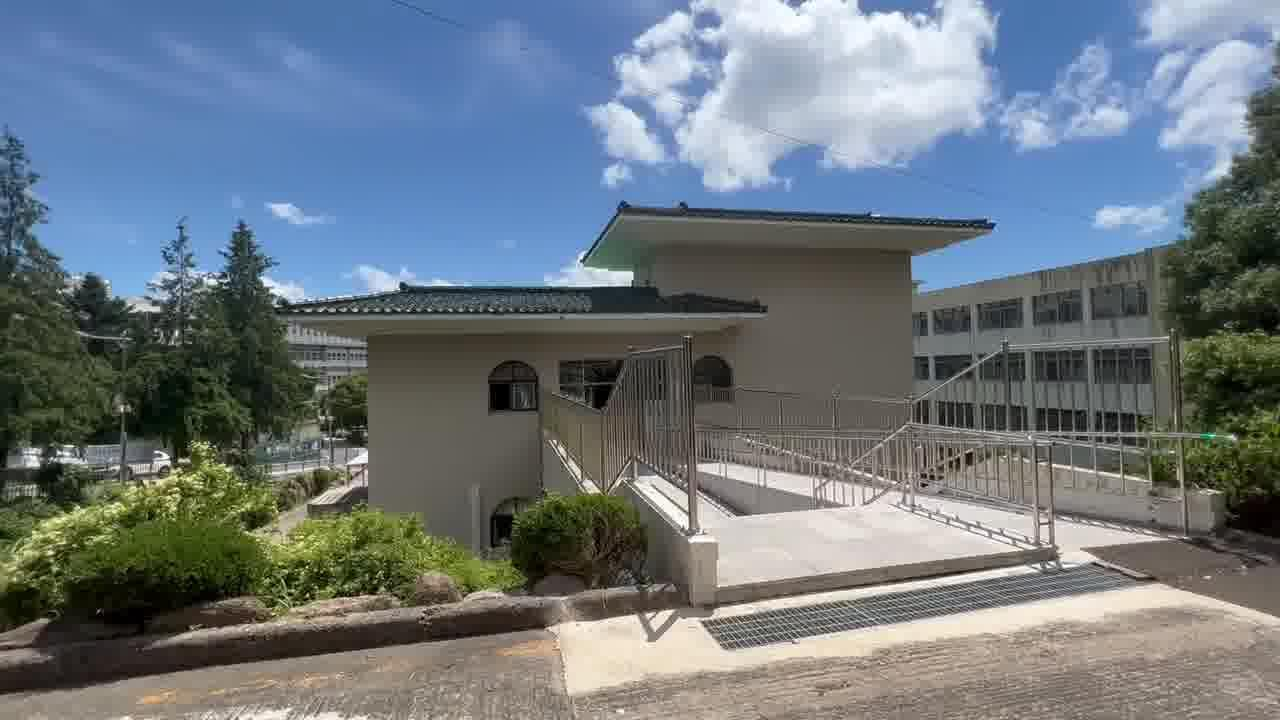building: (339, 202, 995, 488)
